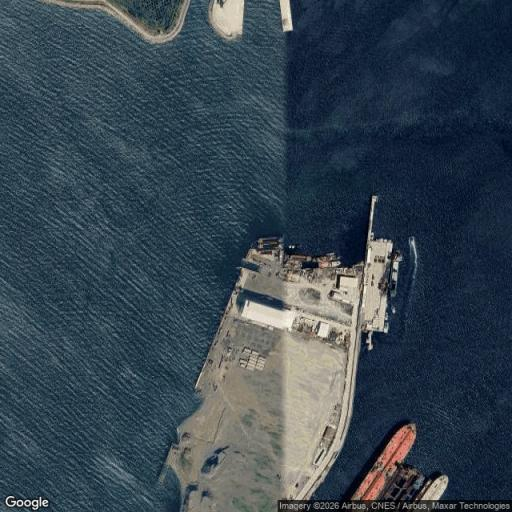ship: (352, 424, 416, 499), (415, 475, 448, 500), (390, 252, 402, 296), (409, 236, 417, 274), (318, 260, 342, 268), (317, 254, 342, 261), (257, 237, 281, 244), (291, 255, 313, 261), (256, 244, 278, 249), (383, 323, 389, 333), (384, 312, 388, 320), (392, 307, 395, 314)
